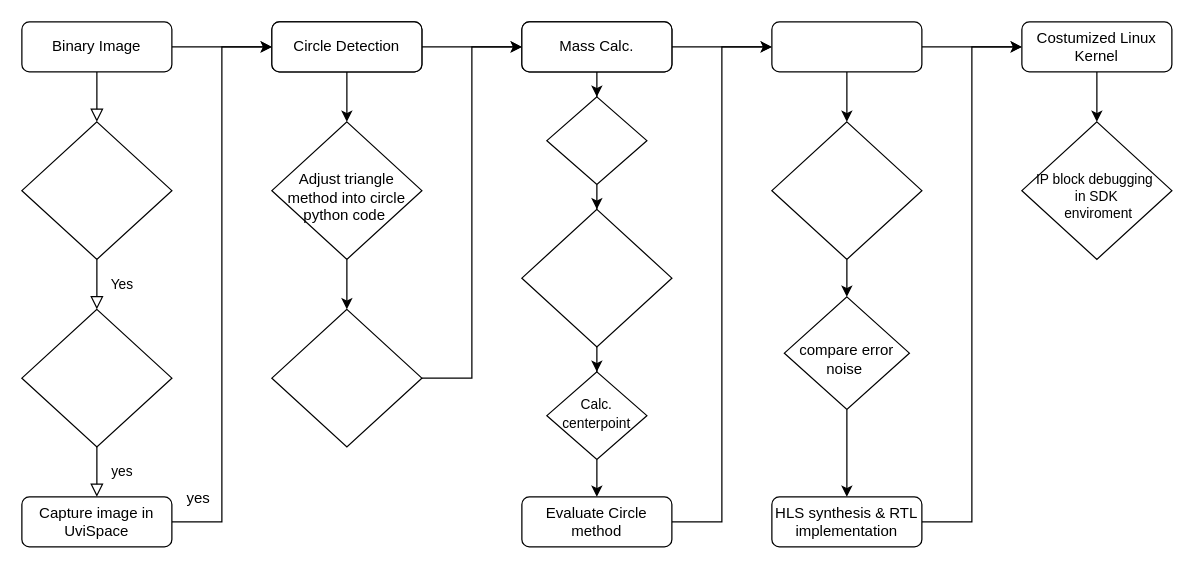
This 1194x569 diagram has some shape labels left out. The shapes that lost their labels are listed below. From the top down, each one's box as (x1, y1, x2, y2) in pixels, then its label:
(771, 21, 922, 72): Positioning on floor
(546, 96, 647, 184): OpenCV in C++
(21, 121, 172, 259): Design two circles 1 big 1 small
(771, 121, 922, 259): Algorithm for positioning
(521, 208, 672, 347): OpenCV2AXIVideo -> AXIVideo2Mat
(21, 308, 172, 447): Print & place on top off UGV
(271, 308, 422, 447): Roi for big circle Roi for small circle
